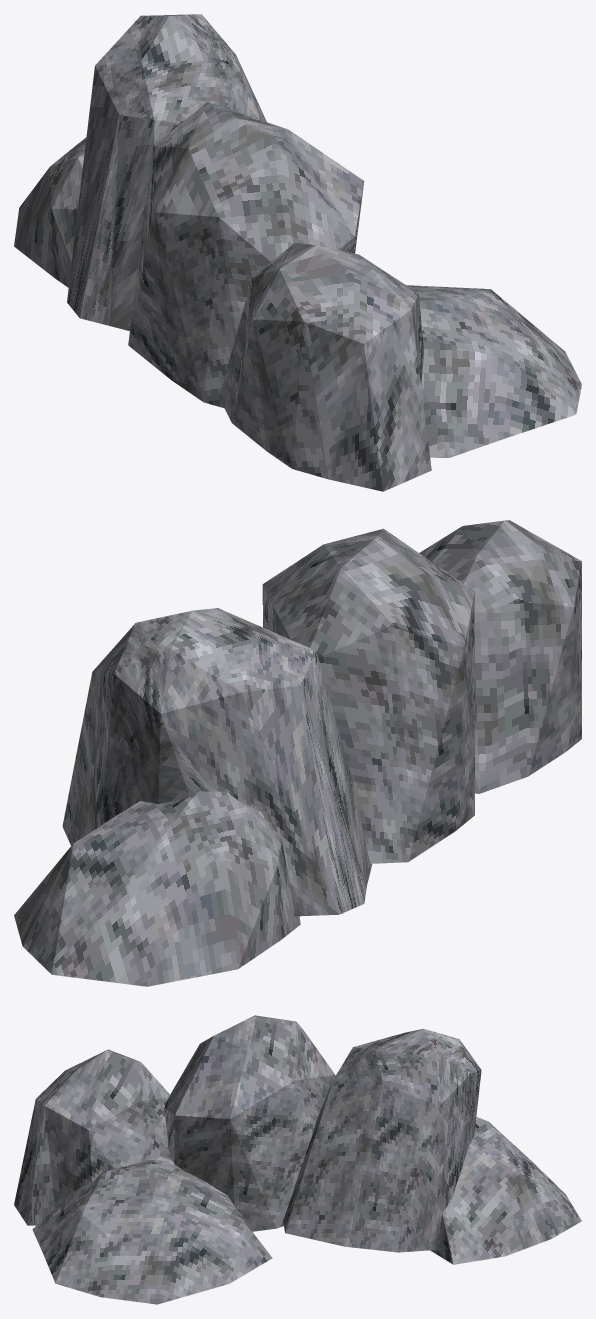
The model's file is lod_rockgp2_05.obj.
The picture shows the model from 3 angles, top to bottom: view 1: azimuth 30°, elevation 25°; view 2: azimuth 150°, elevation 25°; view 3: azimuth 270°, elevation 25°; orthographic projection. The views are drawn at different scales.
Parts seen in each view (by area): view 1: lod_rockgp2_05; view 2: lod_rockgp2_05; view 3: lod_rockgp2_05.
Part boxes in pixels (x1,y1,x2,y2): lod_rockgp2_05: [14, 14, 581, 491]; lod_rockgp2_05: [14, 520, 581, 986]; lod_rockgp2_05: [14, 1015, 581, 1304].
Size of the model in its own units: 31.51 by 22.95 by 59.55.
Materials: 2 (2 with a texture image).
